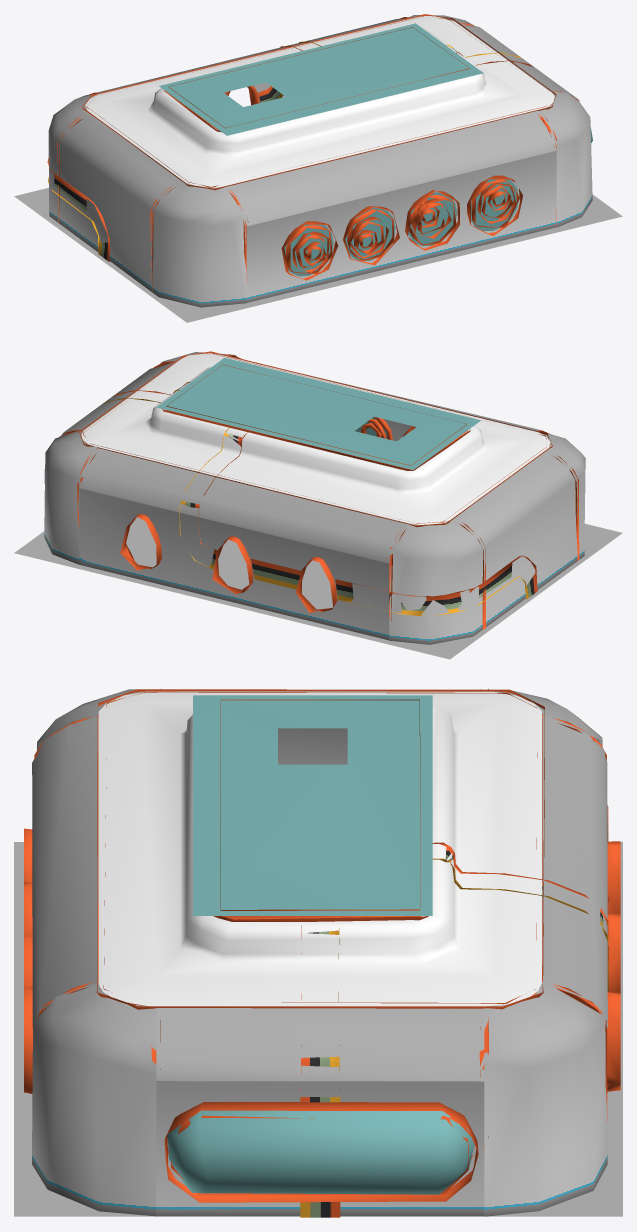
The model's file is Archi_Collider.fbx.
3 views of the same model, one above another, from view 1: azimuth 30°, elevation 25°; view 2: azimuth 150°, elevation 25°; view 3: azimuth 270°, elevation 25° (orthographic). The views are drawn at different scales.
Parts seen in each view (by area): view 1: bande_deco; view 2: bande_deco; view 3: bande_deco.
Part boxes in pixels (box(x1,y1,x2,y2)): bande_deco: box(14, 14, 622, 322); bande_deco: box(14, 351, 622, 659); bande_deco: box(14, 689, 622, 1217).
Size of the model in its own units: 1044 by 281 by 682.
Materials: 3 (1 with a texture image).
